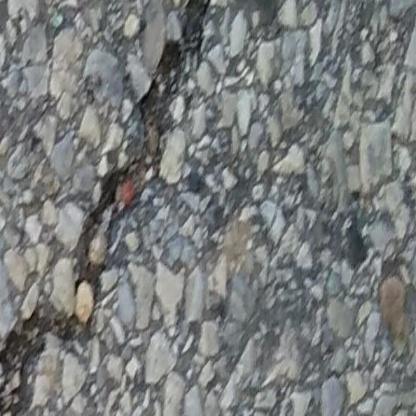Cracks: (0, 0, 215, 416)
